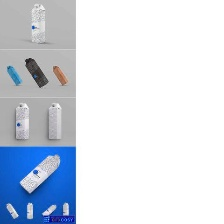carton: (15, 150, 63, 194), (44, 99, 67, 142), (12, 100, 33, 142), (22, 57, 50, 88), (29, 2, 47, 44), (49, 65, 71, 88), (4, 63, 23, 86), (4, 199, 19, 222), (24, 196, 36, 219), (42, 201, 58, 217), (61, 199, 72, 217)
